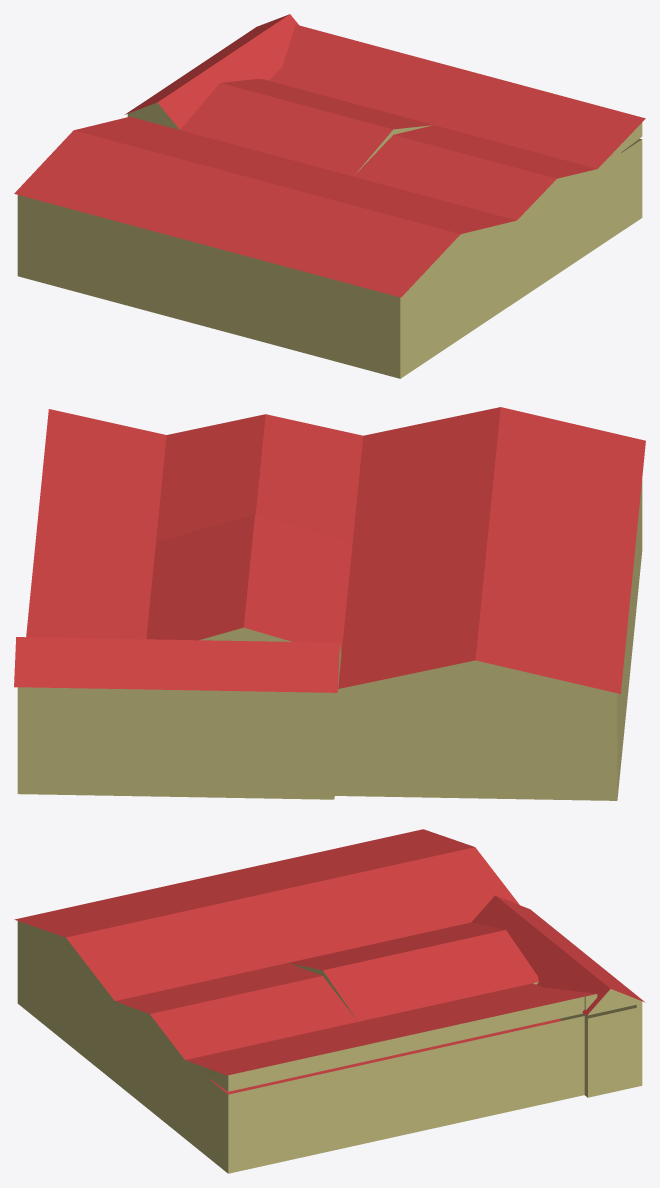
3 views of the same model, one above another, from view 1: azimuth 30°, elevation 25°; view 2: azimuth 150°, elevation 25°; view 3: azimuth 270°, elevation 25° (orthographic). The views are drawn at different scales.
Bounding box in the file's own units: 57.2 × 58.15 × 10.9.
